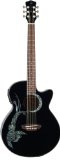guitar: (1, 1, 60, 157)
